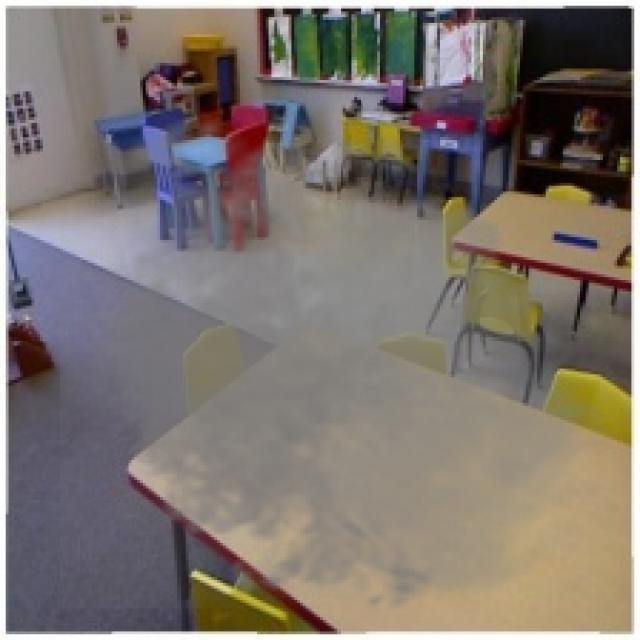Smoke: (60, 103, 629, 620)
